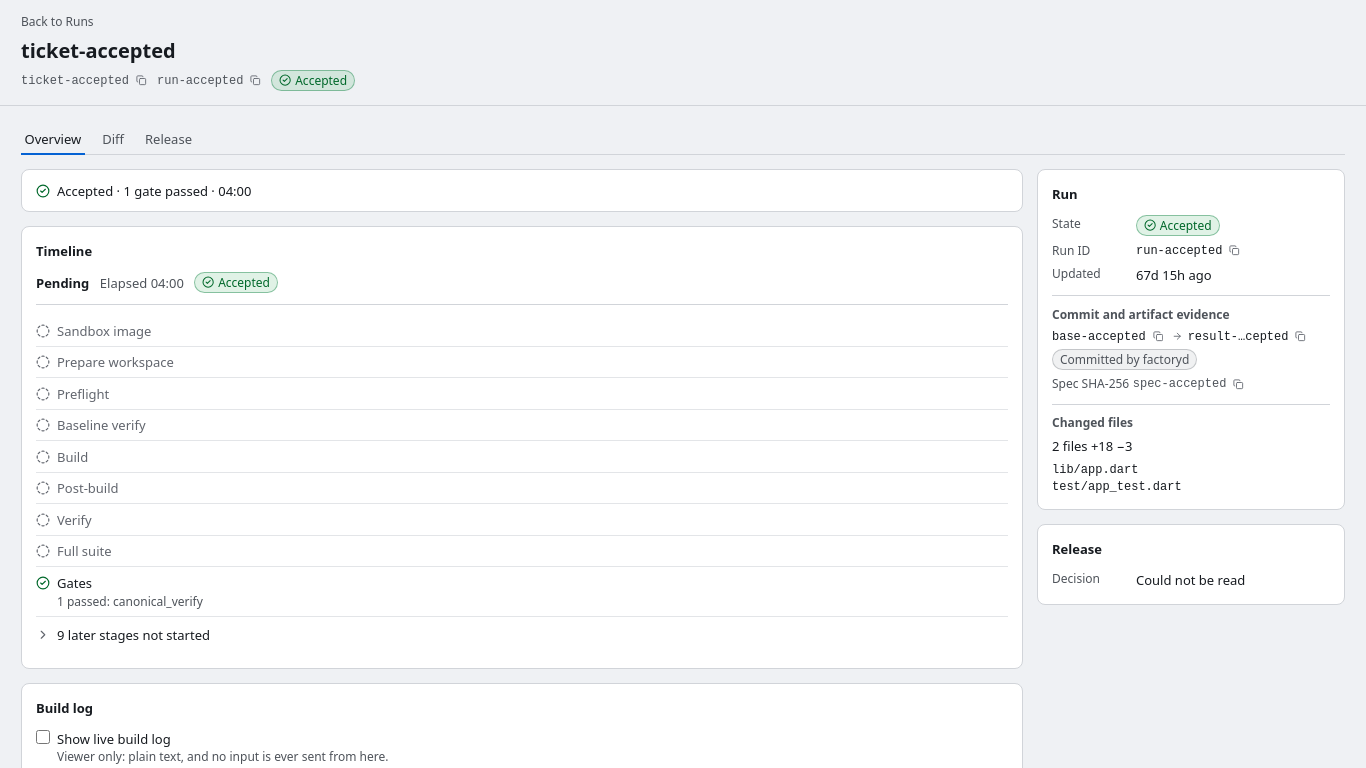
Test: accepted run detail screen navigates to the diff view
Click the tab "Diff" at (113, 140), box left=99, top=124, right=128, bottom=155
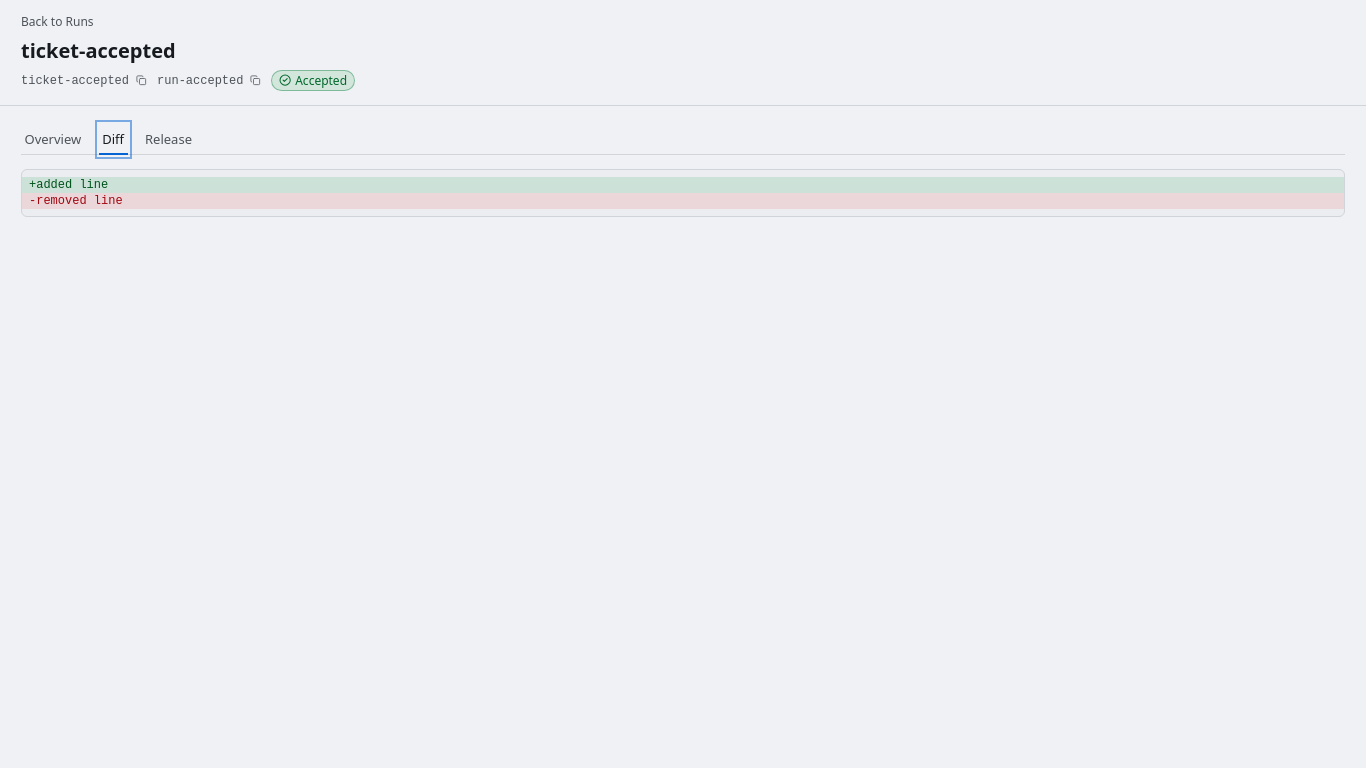
Result: the text "+added line" is shown at left=22, top=177, right=1344, bottom=193
